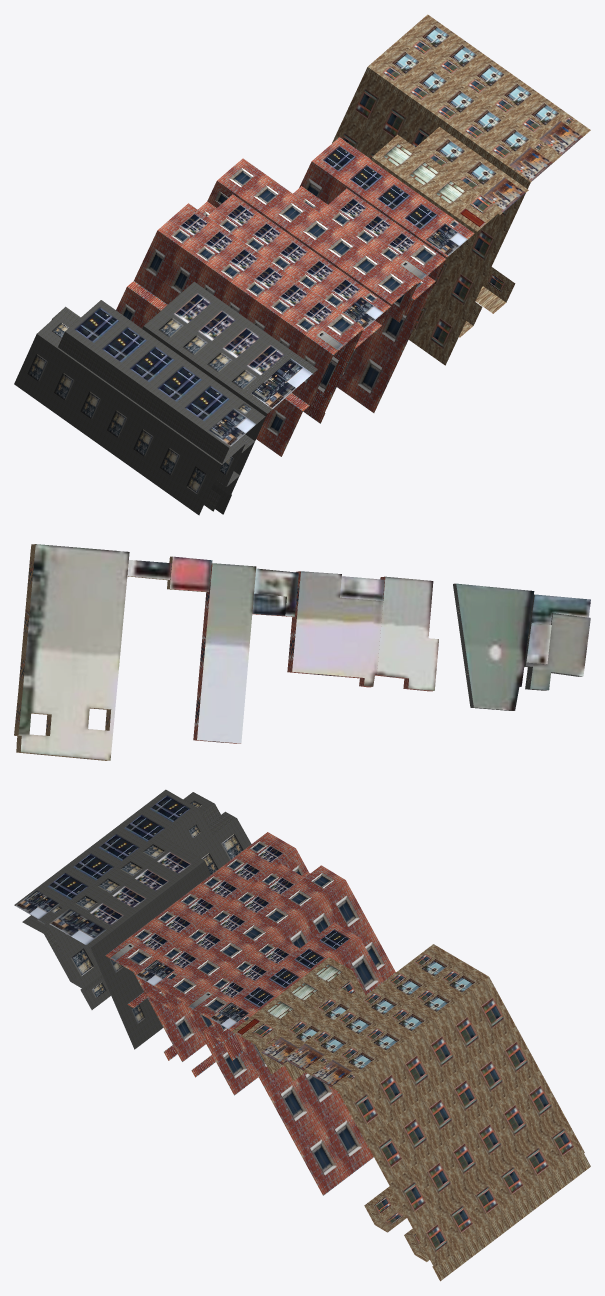
3 views of the same model, one above another, from view 1: azimuth 30°, elevation 25°; view 2: azimuth 150°, elevation 25°; view 3: azimuth 270°, elevation 25° (orthographic). The views are drawn at different scales.
Size of the model in its own units: 73.29 by 33.42 by 60.08.
48 materials, 48 textured.
